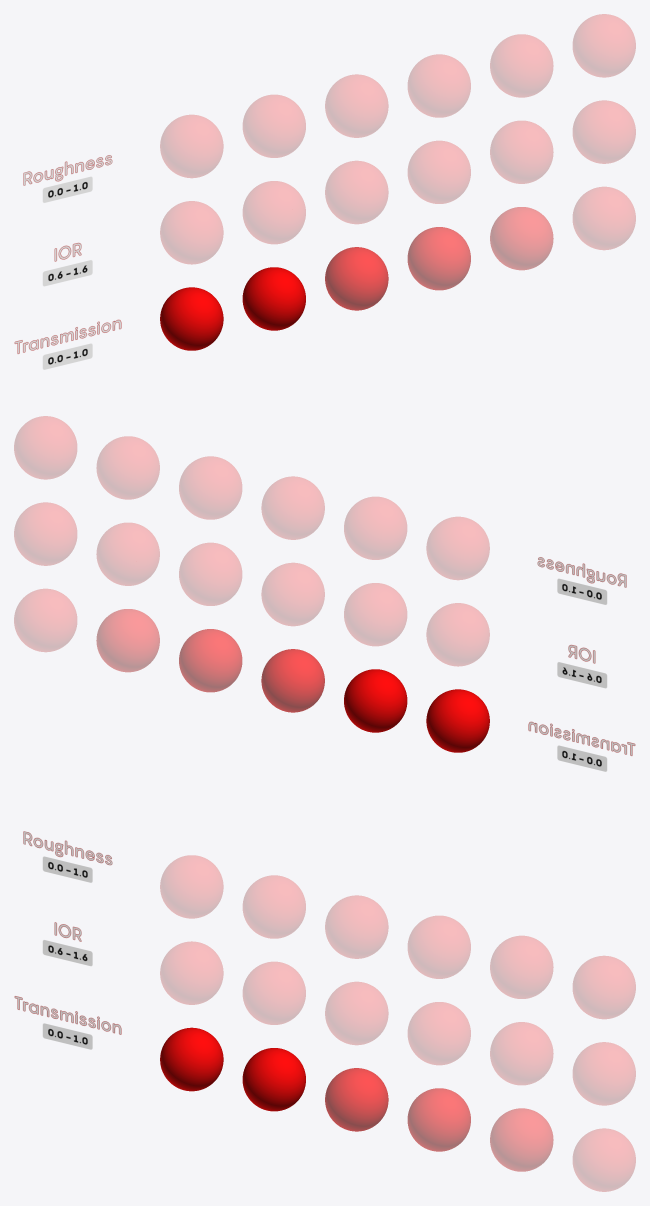
Rendered from TransmissionSpheres.gltf.
3 renders of one model, top to bottom at view 1: azimuth 30°, elevation 25°; view 2: azimuth 150°, elevation 25°; view 3: azimuth 330°, elevation 25°, orthographic.
Visible parts, largest first — view 1: object 3, object 1, object 2, object 4, object 5, object 15, object 7, object 12, object 13, object 18, object 6, object 8 (+9 smaller); view 2: object 3, object 1, object 2, object 4, object 5, object 15, object 7, object 12, object 13, object 18, object 6, object 8 (+9 smaller); view 3: object 1, object 2, object 3, object 4, object 5, object 13, object 14, object 17, object 6, object 7, object 12, object 15 (+9 smaller).
Part boxes in pixels (bbox=[...]): object 3: bbox=[325, 247, 388, 310]; object 1: bbox=[160, 287, 223, 350]; object 2: bbox=[242, 267, 305, 330]; object 4: bbox=[407, 227, 470, 290]; object 5: bbox=[490, 207, 553, 269]; object 15: bbox=[325, 74, 388, 137]; object 7: bbox=[160, 201, 223, 264]; object 12: bbox=[573, 100, 635, 163]; object 13: bbox=[160, 115, 223, 177]; object 18: bbox=[573, 14, 635, 77]; object 6: bbox=[573, 187, 635, 249]; object 8: bbox=[243, 181, 305, 243]; object 3: bbox=[261, 649, 324, 712]; object 1: bbox=[426, 689, 489, 752]; object 2: bbox=[344, 669, 407, 732]; object 4: bbox=[179, 629, 242, 692]; object 5: bbox=[96, 609, 159, 671]; object 15: bbox=[261, 476, 324, 539]; object 7: bbox=[426, 603, 489, 666]; object 12: bbox=[14, 502, 76, 565]; object 13: bbox=[426, 517, 489, 579]; object 18: bbox=[14, 416, 76, 479]; object 6: bbox=[14, 589, 76, 651]; object 8: bbox=[344, 583, 406, 645]; object 1: bbox=[160, 1027, 223, 1091]; object 2: bbox=[242, 1048, 305, 1111]; object 3: bbox=[325, 1068, 388, 1131]; object 4: bbox=[407, 1088, 470, 1151]; object 5: bbox=[490, 1108, 553, 1171]; object 13: bbox=[160, 855, 223, 918]; object 14: bbox=[243, 875, 305, 938]; object 17: bbox=[490, 936, 553, 998]; object 6: bbox=[573, 1128, 635, 1191]; object 7: bbox=[160, 941, 223, 1004]; object 12: bbox=[573, 1042, 635, 1105]; object 15: bbox=[325, 895, 388, 958].
Bounding box in the file's own units: 22.47 × 8 × 2.
Materials: 21 (3 with a texture image).
